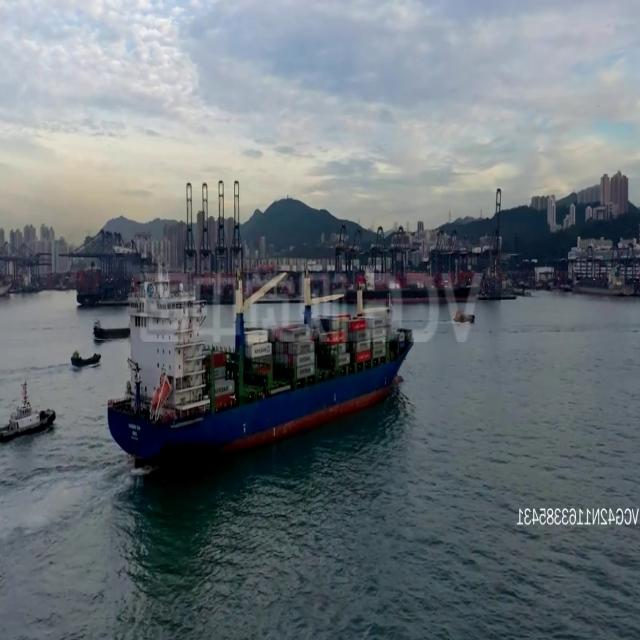cargoship: (107, 274, 419, 462)
fishing boat: (0, 379, 59, 443), (90, 313, 134, 345), (67, 343, 104, 372), (453, 304, 475, 322)
